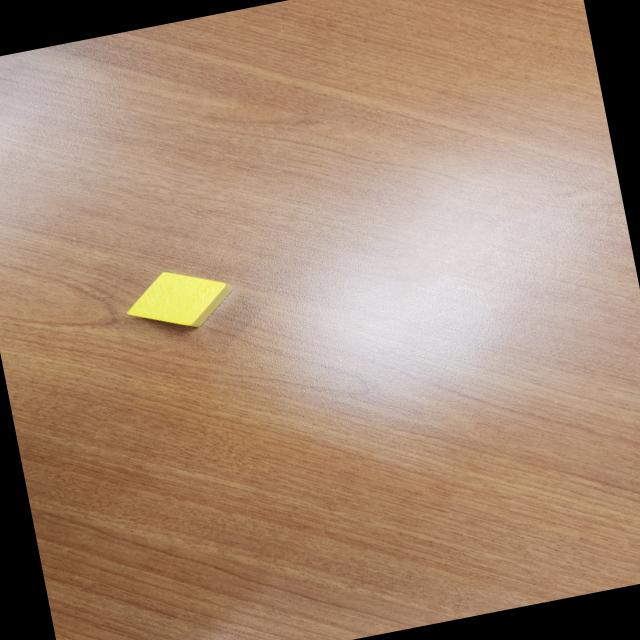yellow: (119, 260, 238, 340)
